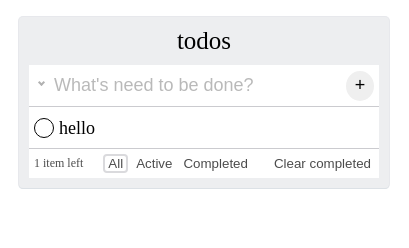
Test: A new task should be added in todolist
Expected: the button with test id "add a new task btn" is shown, [346,70,374,100]
Expected: the number of elements with test id "task" is 1, [29,107,379,149]
Type "new task" into the field with test id "todolist input" at (182, 86), box [29,65,336,106]
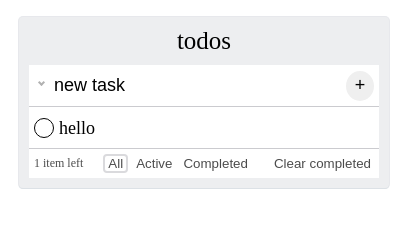
Click the button with test id "add a new task btn" at (360, 86), box [346,70,374,100]
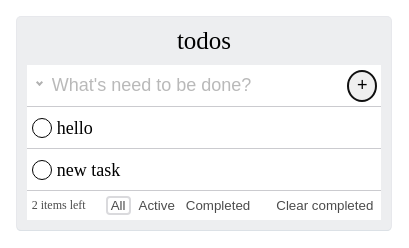
Expected: the field with test id "todolist input" is empty, [27,65,338,106]
Expected: the number of elements with test id "task" is 2, [27,107,381,149]; [27,149,381,191]
Expected: the text "new task" is shown, [57,160,120,180]
